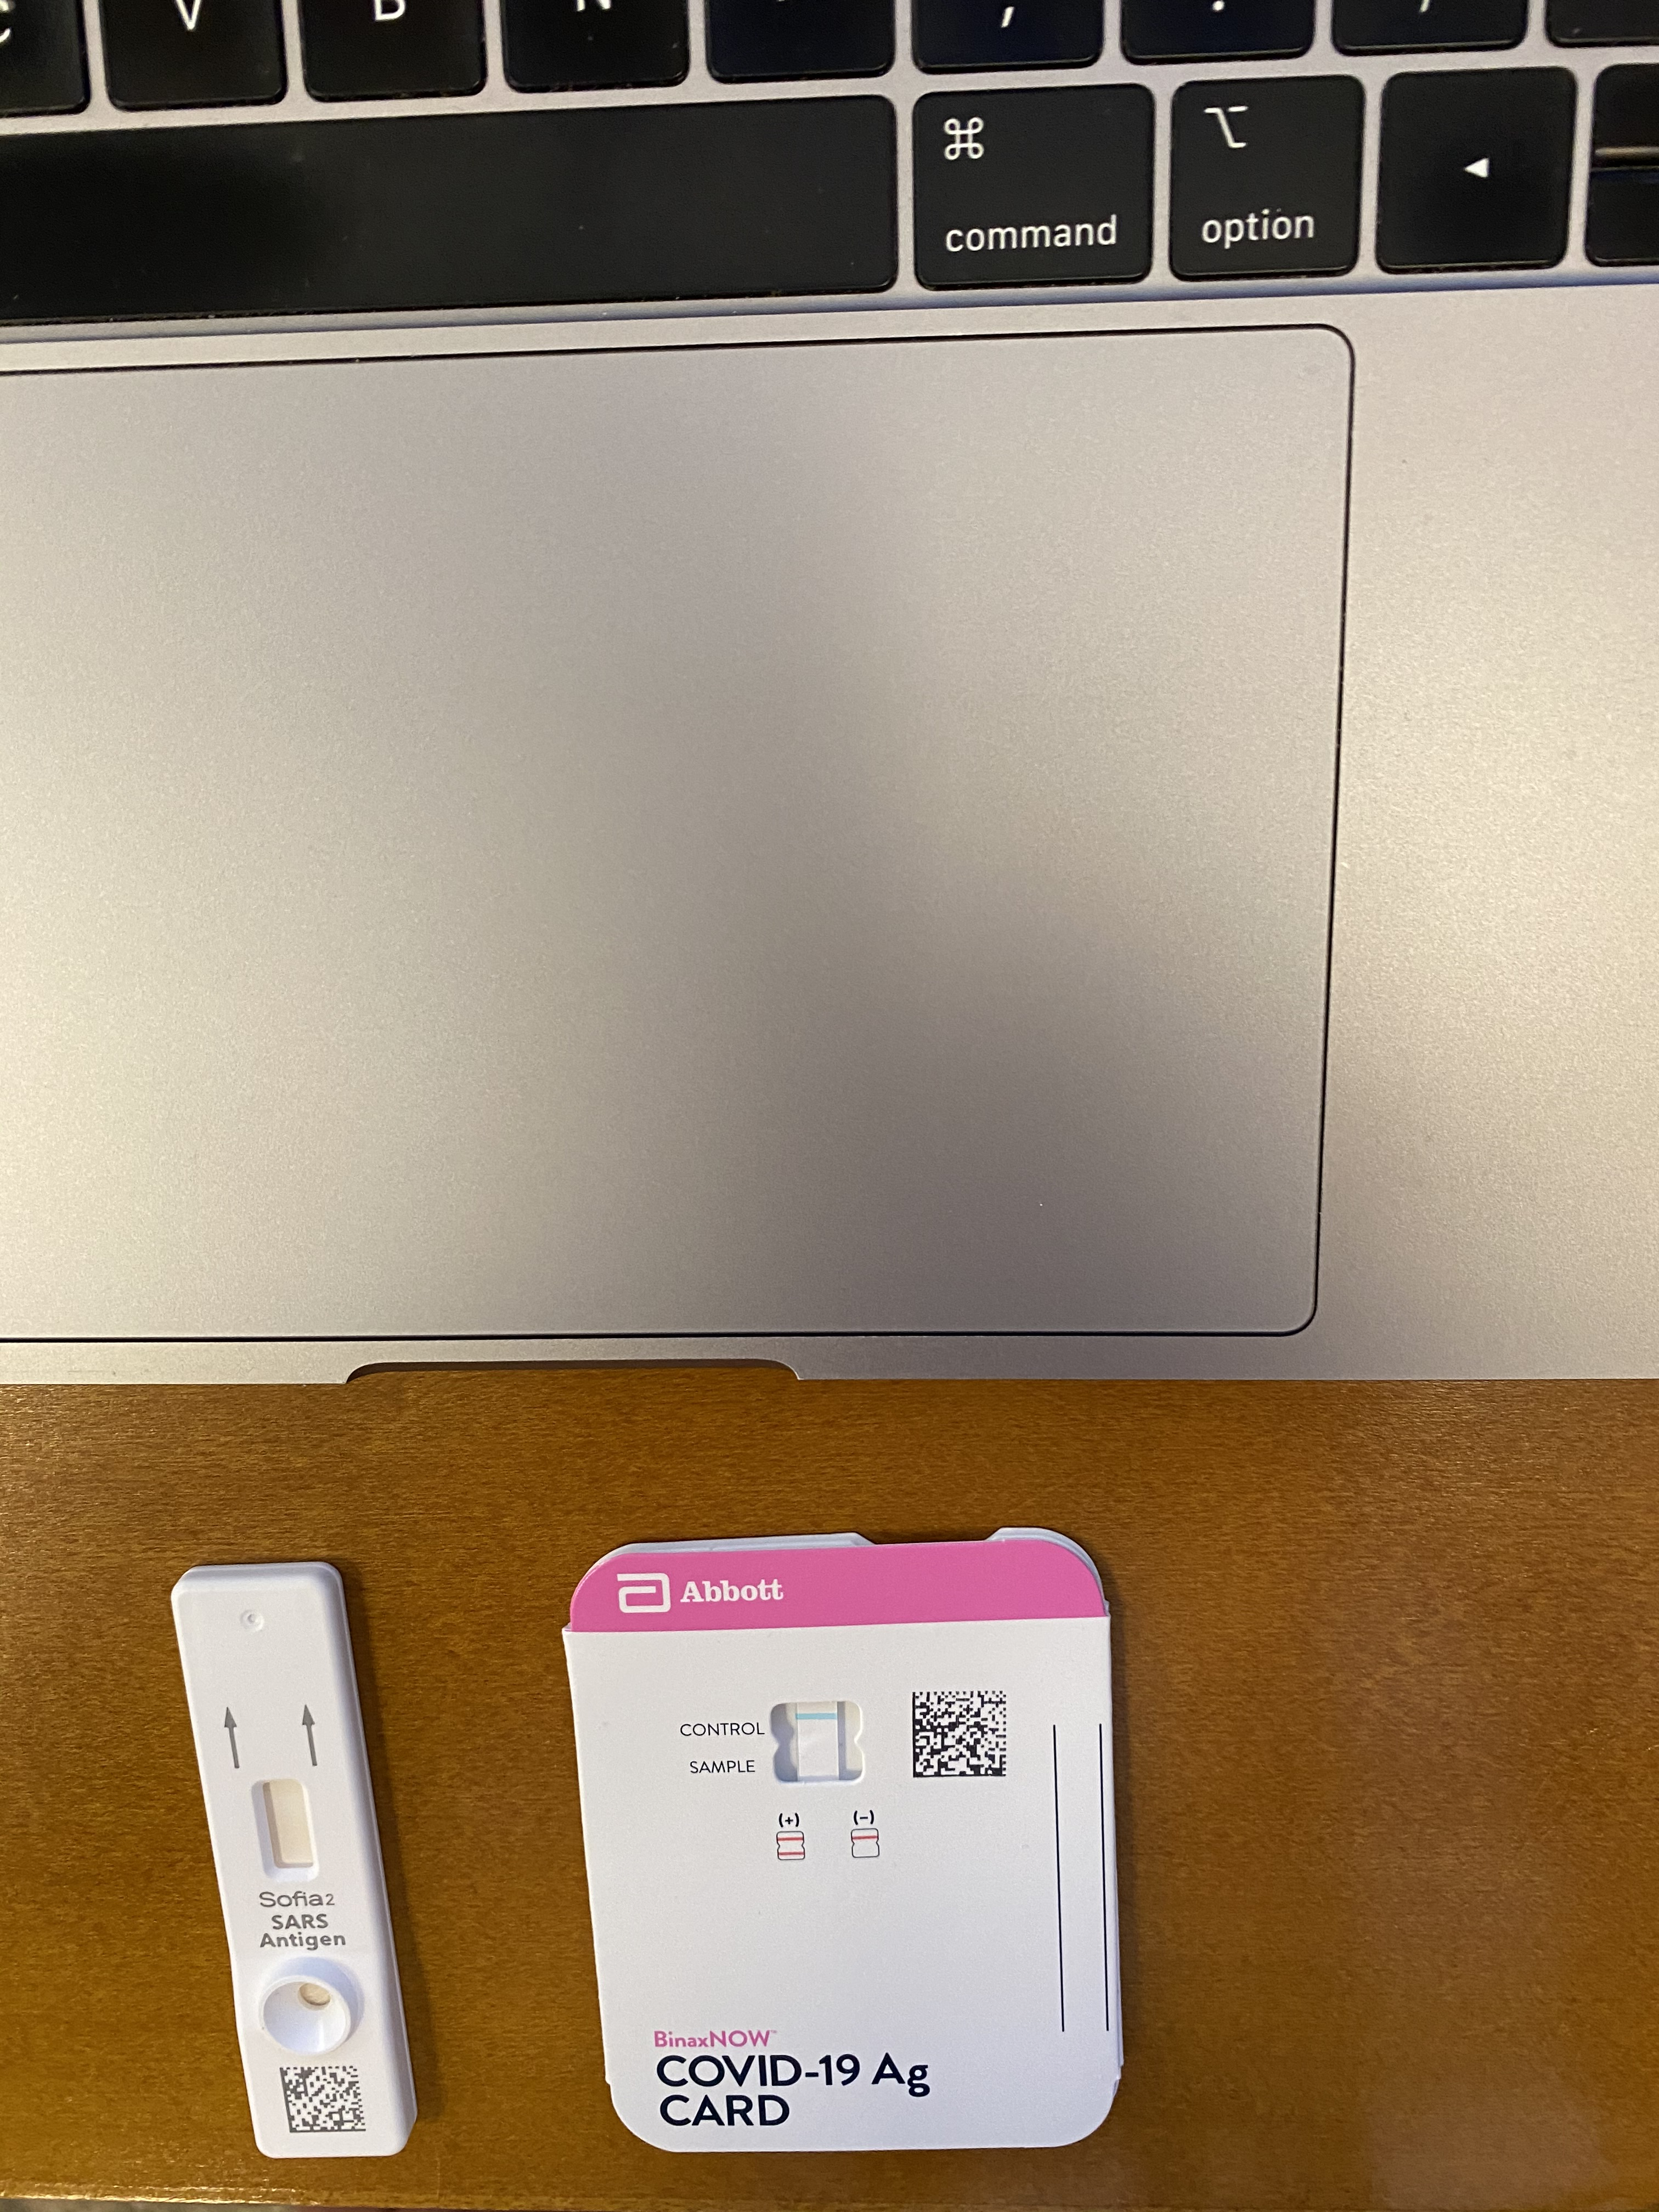binax: (549, 1521, 1147, 2165)
quidel: (160, 1554, 436, 2170)
